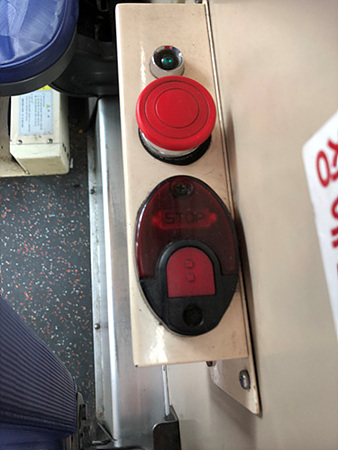bell: (133, 173, 242, 336)
